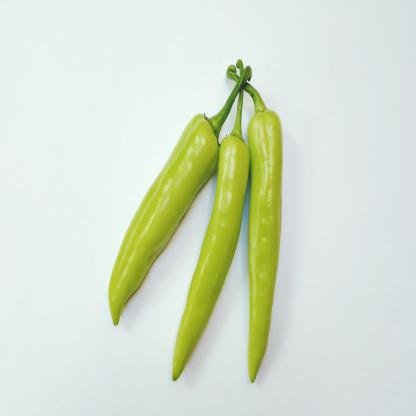chilli: (109, 108, 220, 334), (172, 127, 249, 382), (249, 102, 284, 392)
